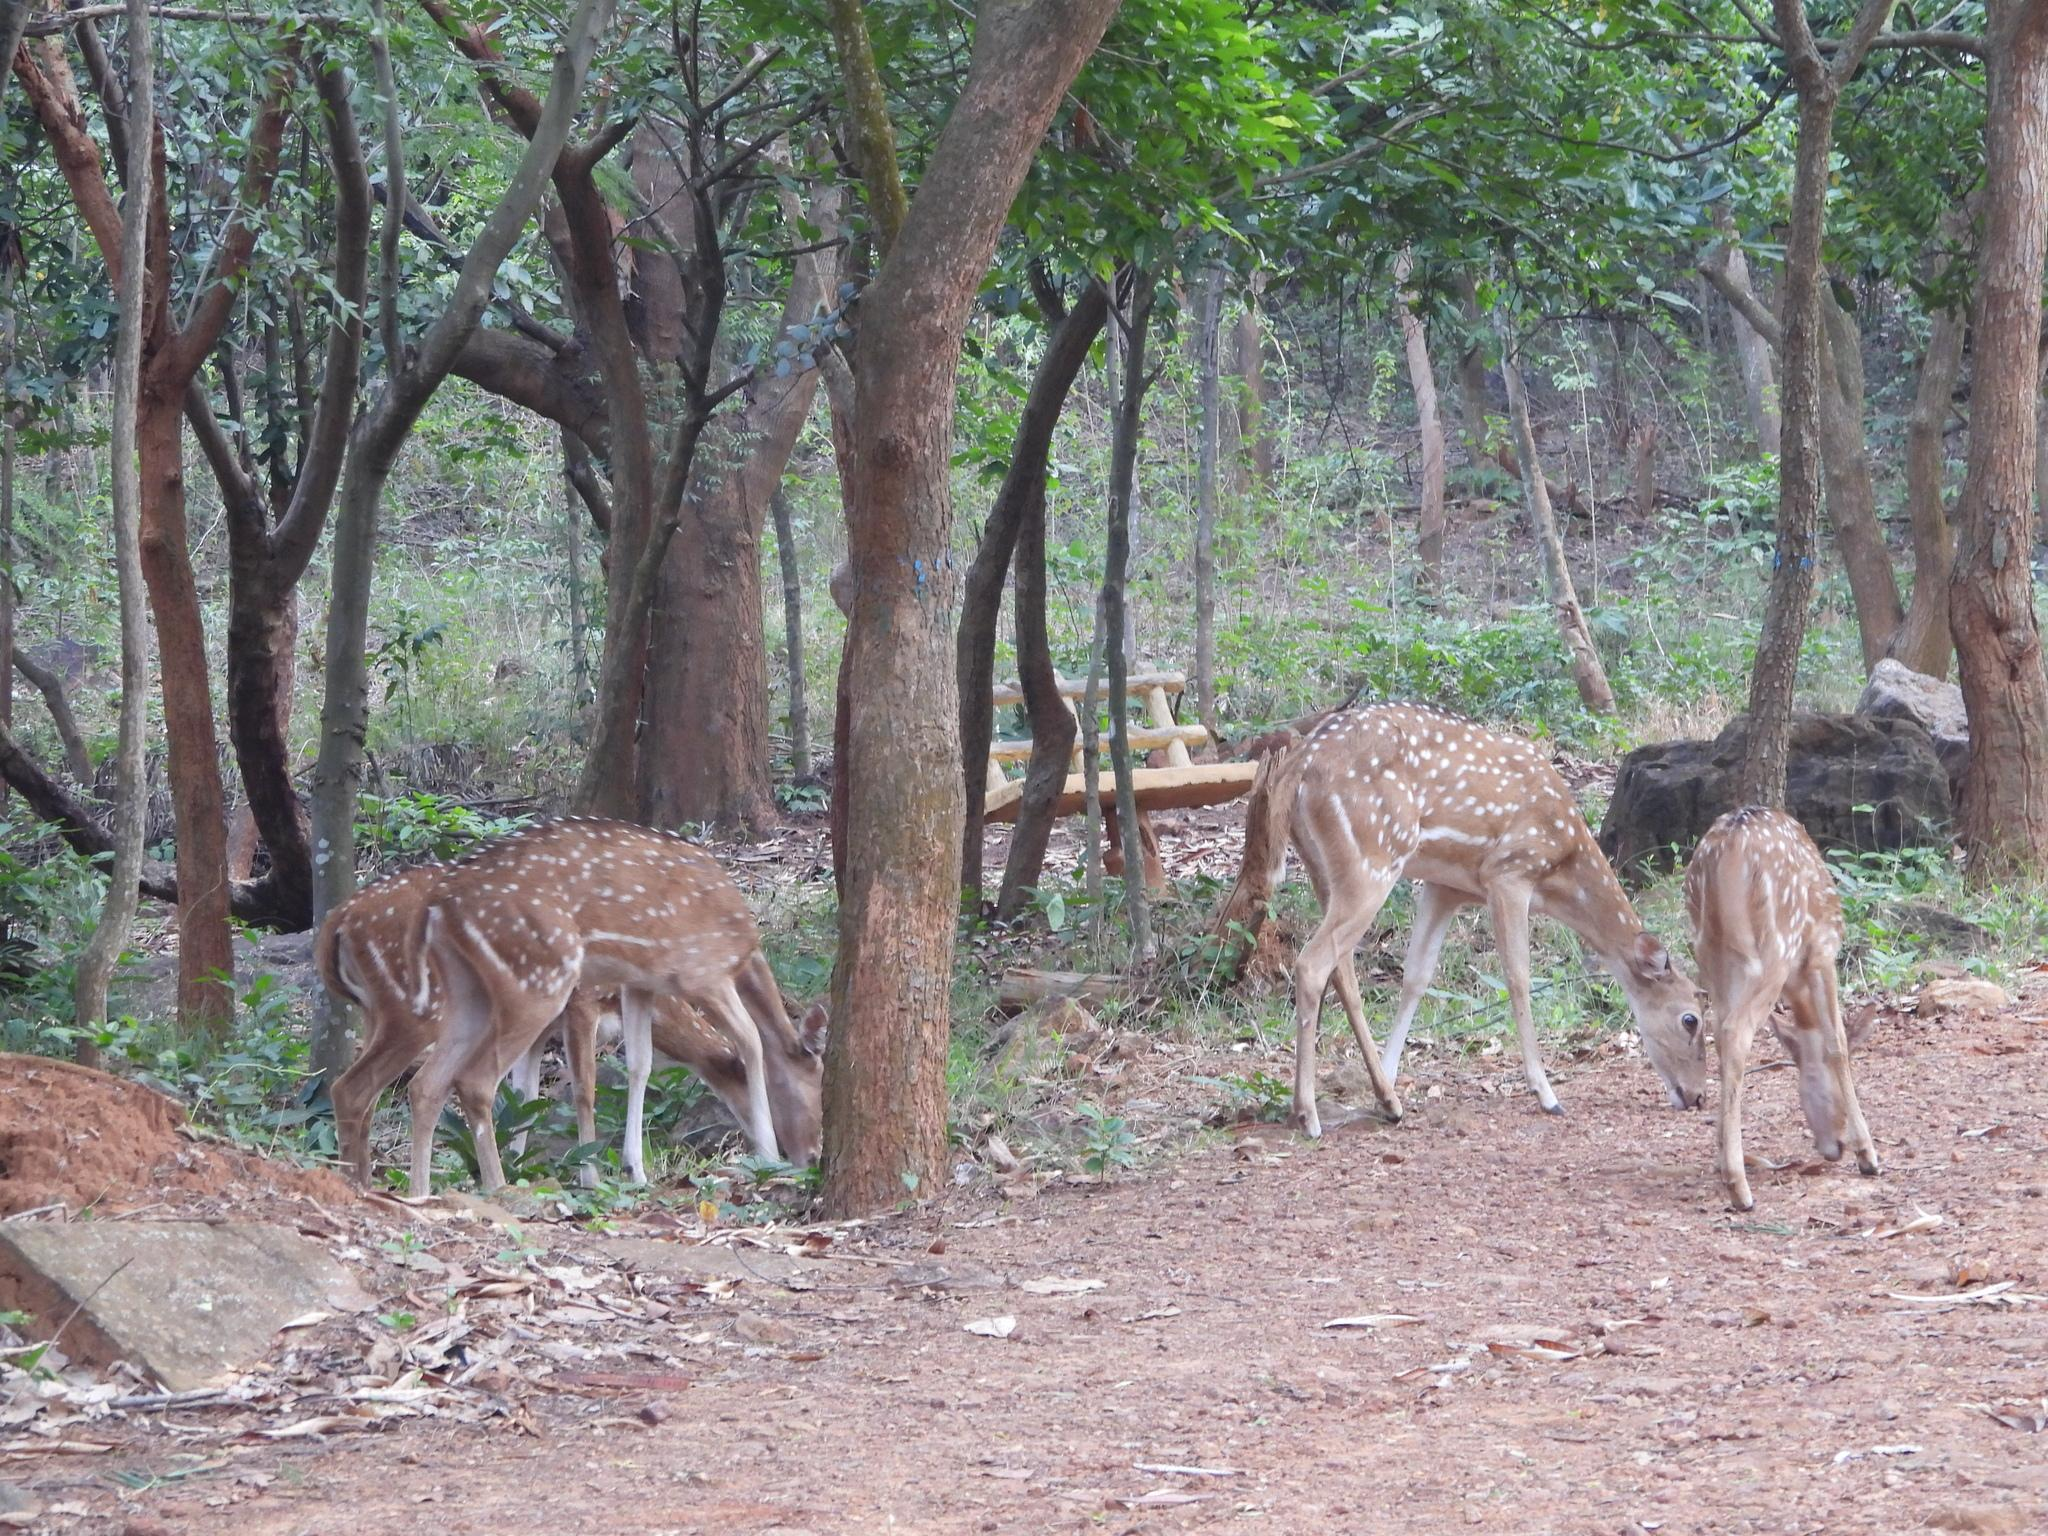Deer: (1219, 703, 1705, 1137), (410, 820, 827, 1196), (1684, 807, 1879, 1208)
